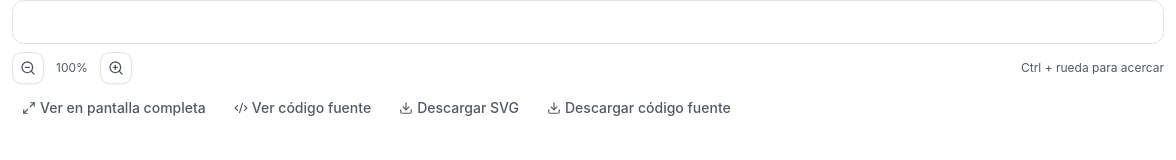
it: DiagramViewer — zoom/pan › zooms via the Acercar/Alejar buttons in fixed steps
The image size is (1176, 160).
Click the button named "Acercar" at (116, 68), box [100,52,132,84]
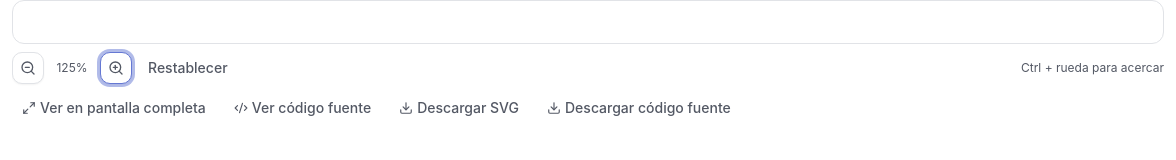
Now the text "125%" is shown, box [56,60,88,75]
Click the button named "Alejar" at (28, 68), box [12,52,44,84]
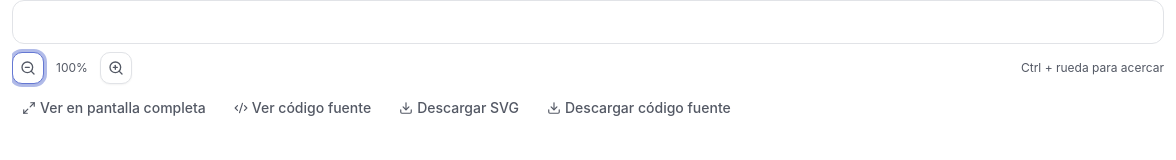
Now the text "100%" is shown, box [56,60,88,75]
